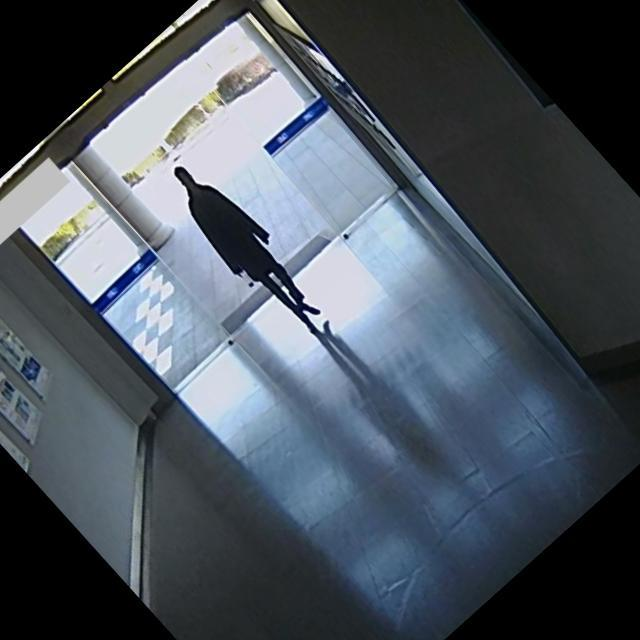person: (144, 138, 348, 354)
